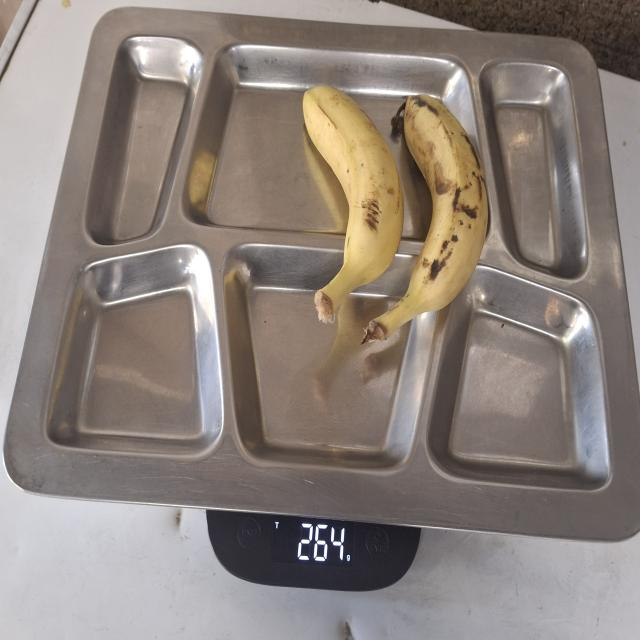Banana: (299, 77, 491, 344)
